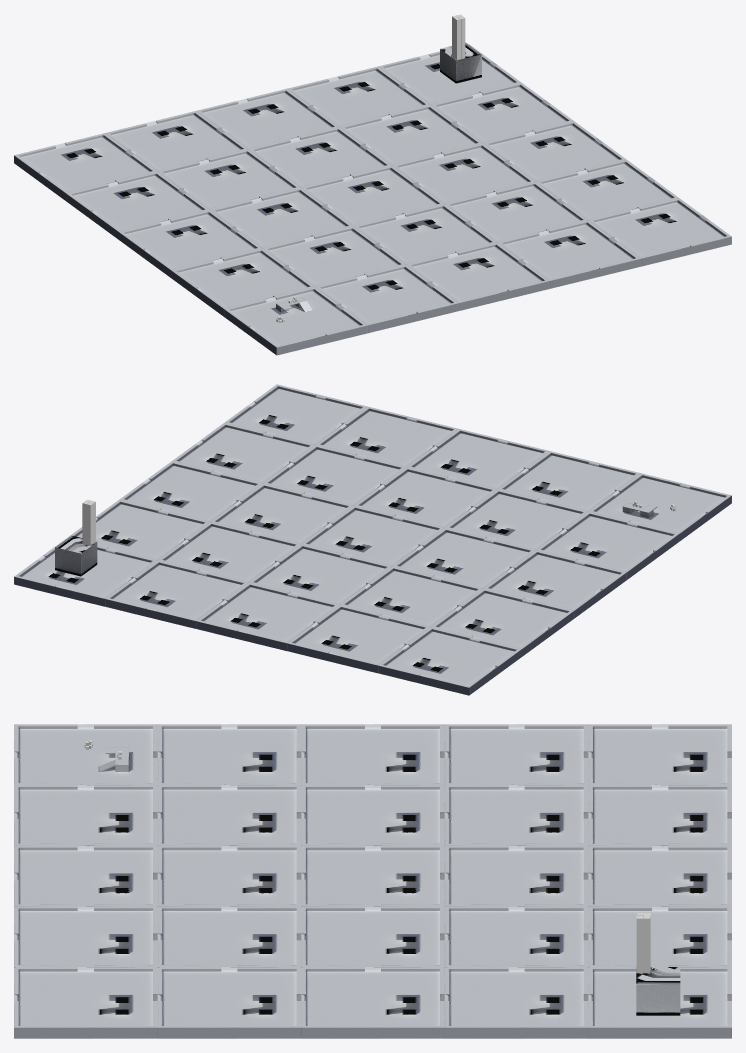
File: example-terrain.glb
3 views of the same model, one above another, from view 1: azimuth 30°, elevation 25°; view 2: azimuth 150°, elevation 25°; view 3: azimuth 270°, elevation 25° (orthographic). The views are drawn at different scales.
Visible parts, largest first — view 1: SM_ground, SM_ramp.001; view 2: SM_ground, SM_ramp.001; view 3: SM_ground, SM_ramp.001.
Boxes of the visible parts, x1,y1,x2,y2 form: SM_ground: (14,44,731,355); SM_ramp.001: (440,42,481,83); SM_ground: (14,384,731,695); SM_ramp.001: (55,535,97,576); SM_ground: (14,724,731,1038); SM_ramp.001: (636,967,680,1015).
Size of the model in its own units: 107 by 15.49 by 107.
2 materials, 1 textured.
